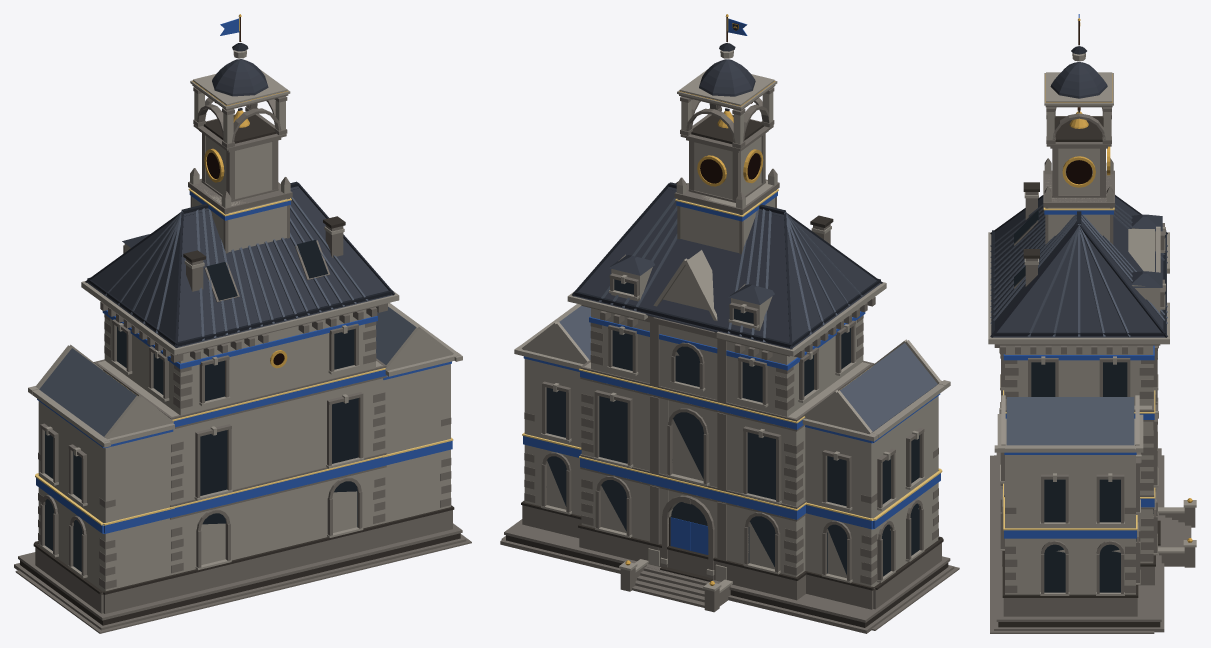
File: 城镇大厅_手游_中.glb
3 renders of one model, left to right at view 1: azimuth 30°, elevation 25°; view 2: azimuth 150°, elevation 25°; view 3: azimuth 270°, elevation 25°, orthographic. The views are drawn at different scales.
Parts seen in each view (by area): view 1: TH-主体, TH-自发光, TH-team, TH-team_trim; view 2: TH-主体, TH-自发光, TH-team, TH-team_trim; view 3: TH-主体, TH-自发光, TH-team, TH-team_trim.
Boxes of the visible parts, x1,y1,x2,y2 form: TH-主体: (14, 14, 471, 633); TH-自发光: (45, 152, 358, 571); TH-team: (36, 18, 452, 533); TH-team_trim: (35, 18, 453, 525); TH-主体: (500, 14, 959, 633); TH-自发光: (546, 23, 919, 576); TH-team: (523, 18, 940, 554); TH-team_trim: (522, 18, 942, 520); TH-主体: (988, 18, 1196, 633); TH-自发光: (1014, 160, 1153, 592); TH-team: (1003, 14, 1154, 538); TH-team_trim: (1003, 207, 1155, 530).
Size of the model in its own units: 18.1 by 25.15 by 8.99.
4 materials, 2 textured.
